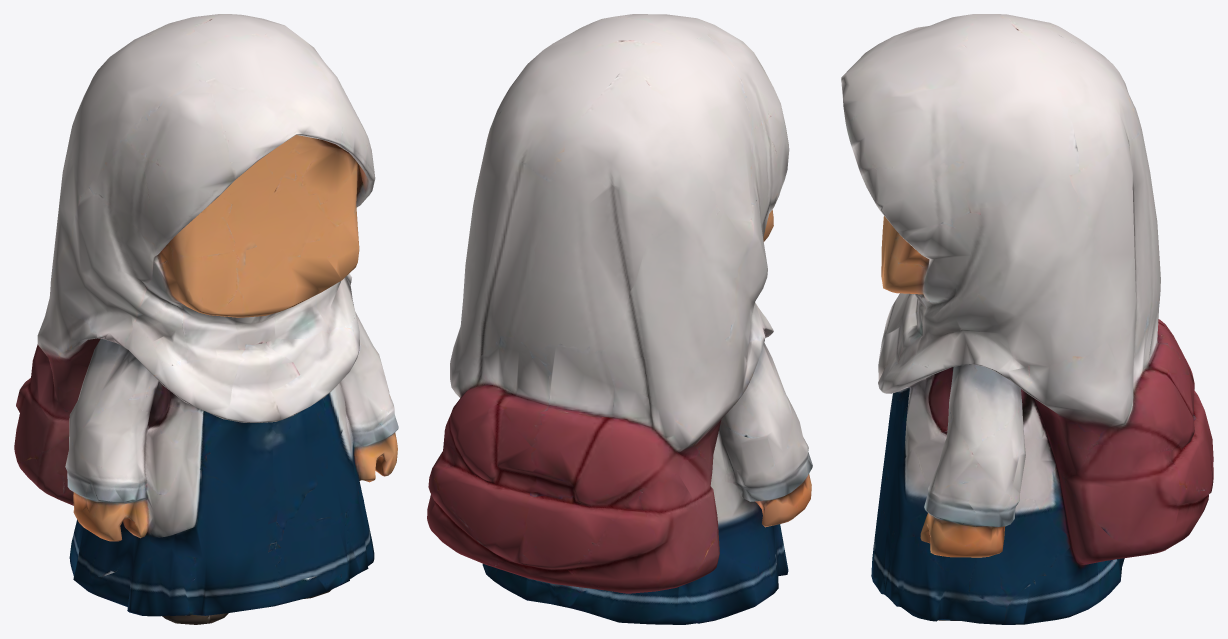
The model's file is hijab-girl.glb.
3 views of the same model, side by side, from view 1: azimuth 30°, elevation 25°; view 2: azimuth 150°, elevation 25°; view 3: azimuth 270°, elevation 25° (orthographic).
Size of the model in its own units: 1.12 by 1.9 by 1.15.
1 material, 1 textured.
